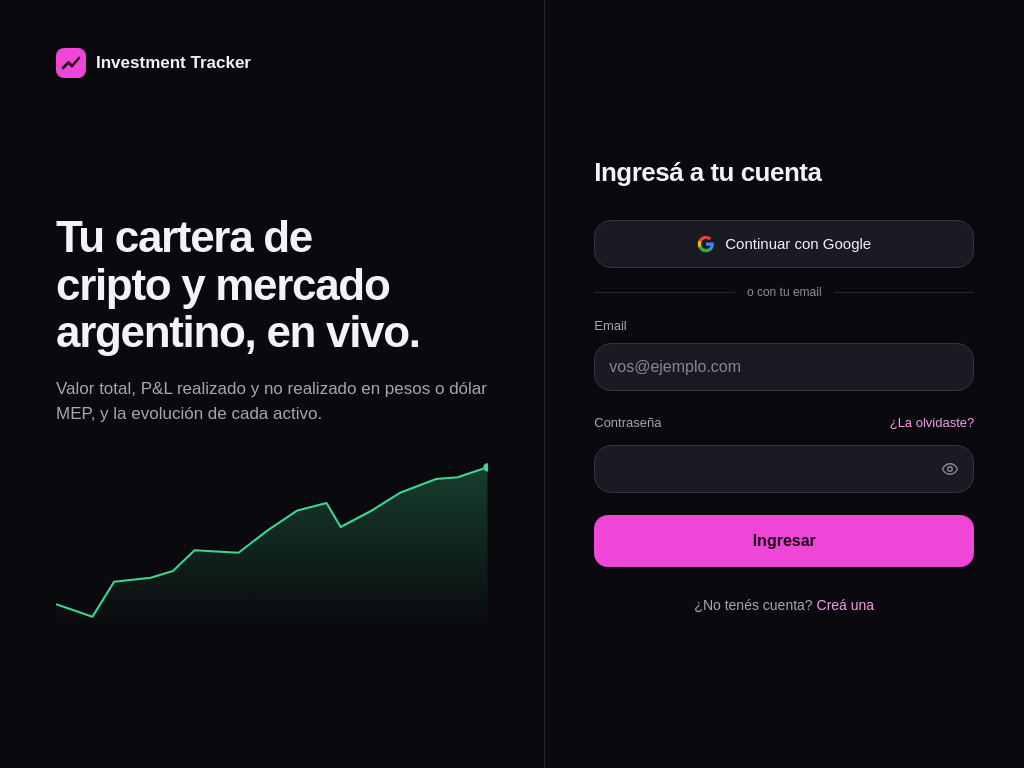
Test: /login › shows a generic error and clears the password on invalid credentials
The width and height of the screenshot is (1024, 768).
Expected: the heading "Ingresá a tu cuenta" is shown, [594, 157, 821, 187]
Step 1. Type "ana@example.com" into the field labelled "Email" → (784, 366), box [594, 342, 974, 390]
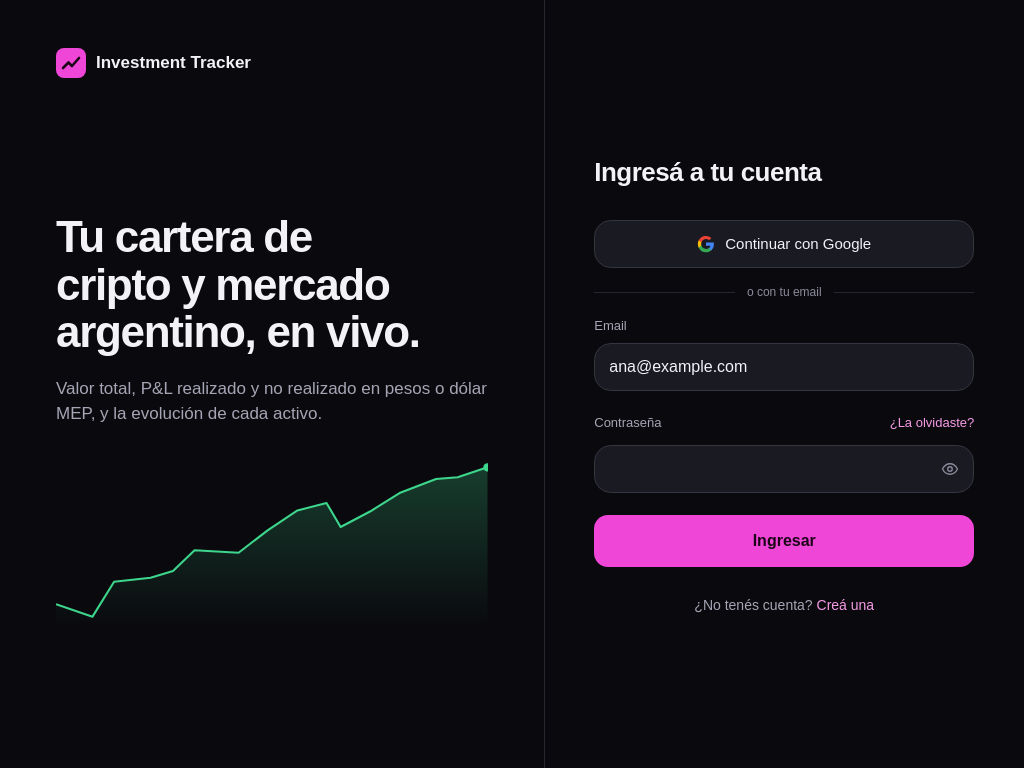
Step 2. Type "correct horse battery" into the password field labelled "Contraseña" → (784, 469), box [594, 445, 974, 493]
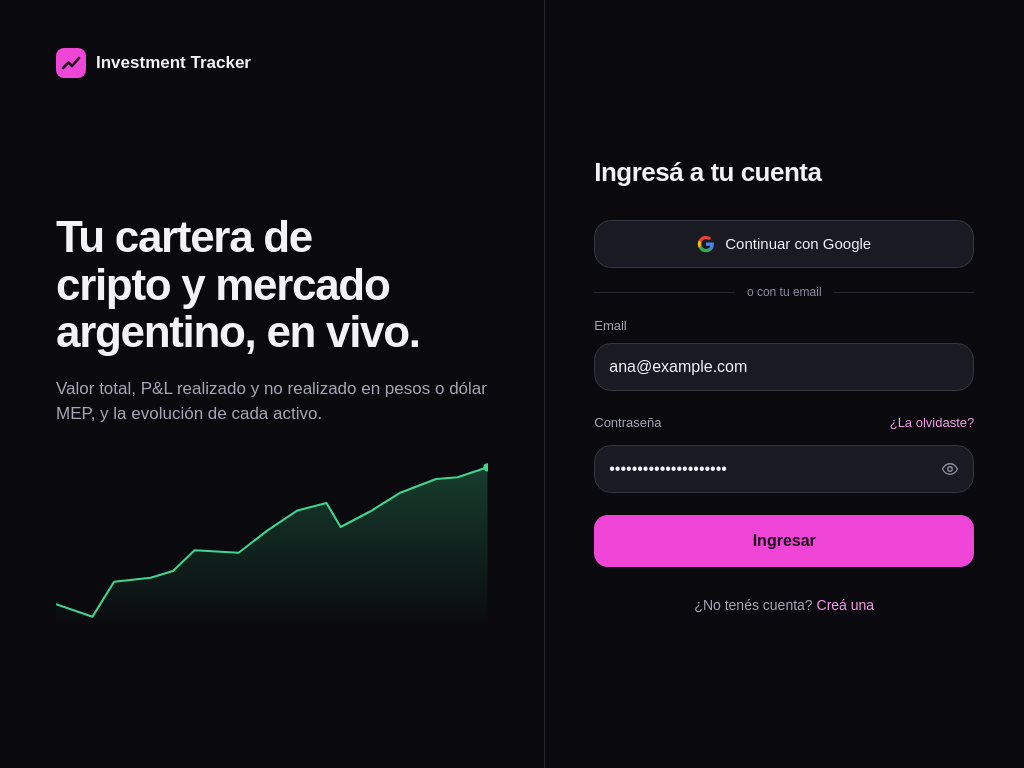
Step 3. Click the button "Ingresar" → (784, 541), box [594, 515, 974, 567]
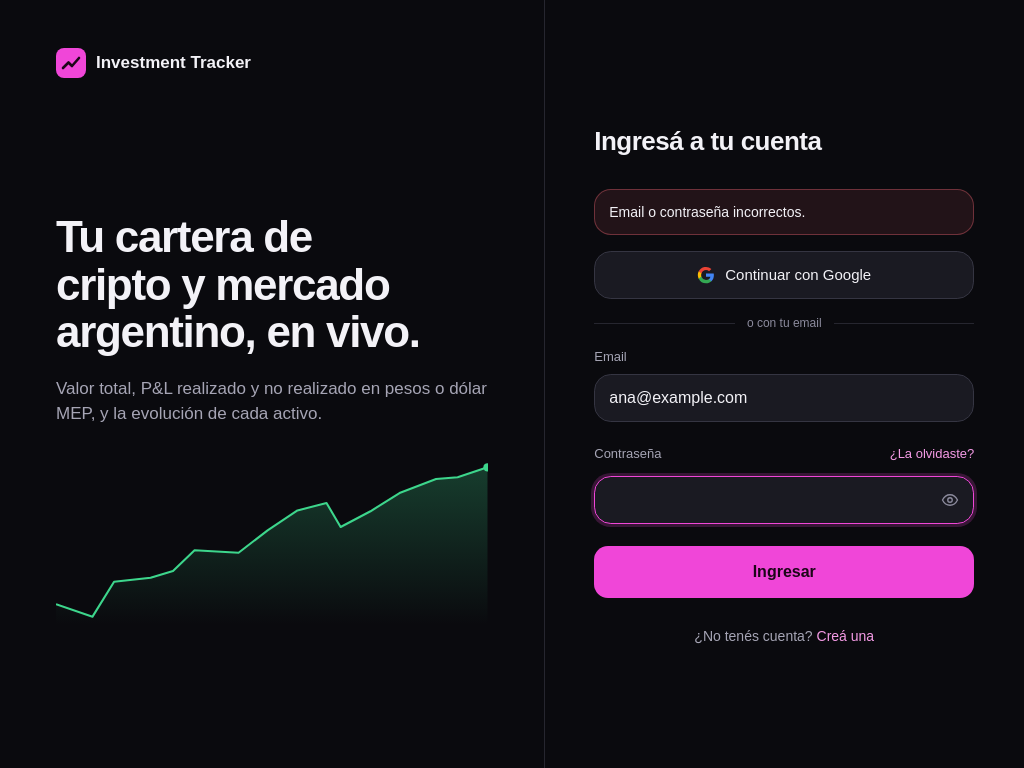
Expected: the message reads "Email o contraseña incorrectos.", [609, 204, 805, 220]
Expected: the password field labelled "Contraseña" is empty, [594, 476, 974, 524]
